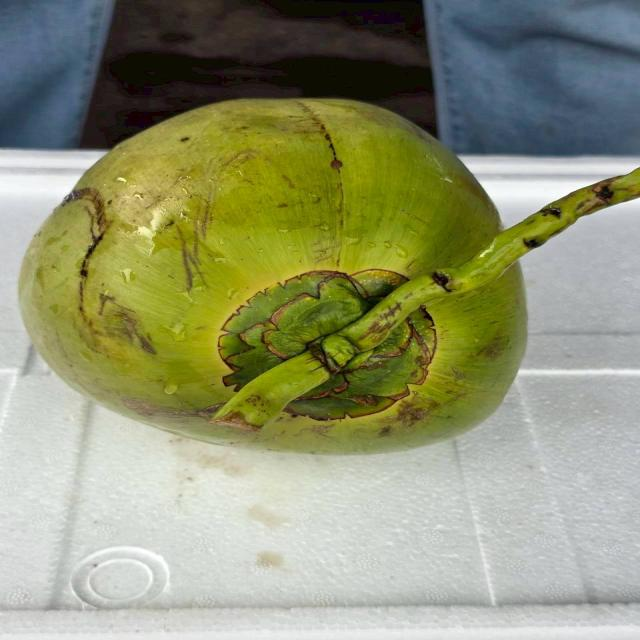coco_1.5: (171, 228, 508, 461)
